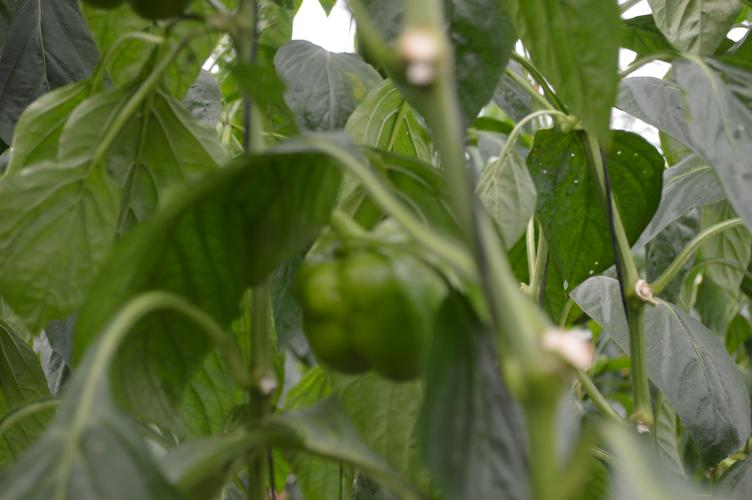BellPepper: (293, 253, 427, 382)
